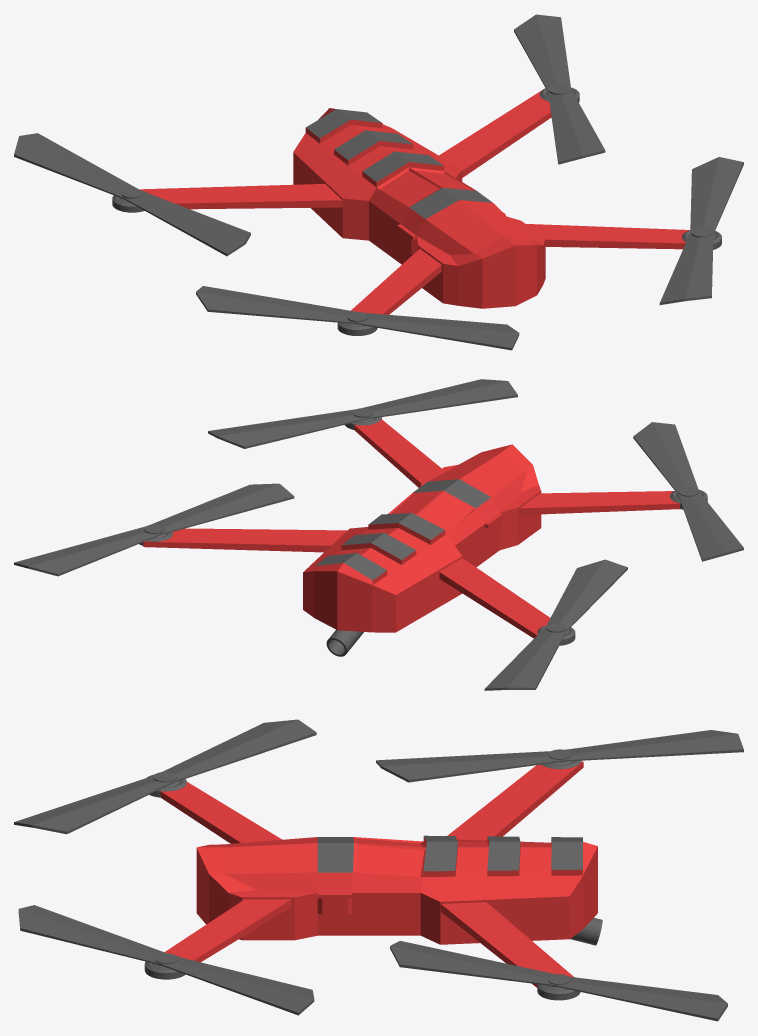
The model's file is drone red.fbx.
3 views of the same model, one above another, from view 1: azimuth 30°, elevation 25°; view 2: azimuth 150°, elevation 25°; view 3: azimuth 270°, elevation 25° (orthographic). The views are drawn at different scales.
Visible parts, largest first — view 1: base, blade 2, blade 4, blade 3, blade 1; view 2: base, blade 1, blade 3, blade 4, blade 2; view 3: base, blade 4, blade 3, blade 2, blade 1.
Part boxes in pixels (left/top/right/bottom): base: left=112, top=84, right=721, bottom=335; blade 2: left=196, top=286, right=519, bottom=350; blade 4: left=14, top=133, right=250, bottom=256; blade 3: left=514, top=14, right=605, bottom=164; blade 1: left=659, top=157, right=743, bottom=304; base: left=139, top=408, right=707, bottom=656; blade 1: left=208, top=379, right=517, bottom=448; blade 3: left=14, top=483, right=294, bottom=576; blade 4: left=484, top=559, right=627, bottom=690; blade 2: left=633, top=422, right=743, bottom=561; base: left=144, top=749, right=602, bottom=1000; blade 4: left=376, top=730, right=743, bottom=782; blade 3: left=390, top=941, right=727, bottom=1021; blade 2: left=14, top=719, right=316, bottom=834; blade 1: left=18, top=905, right=314, bottom=1015.
Size of the model in its own units: 1312 by 211 by 1363.
